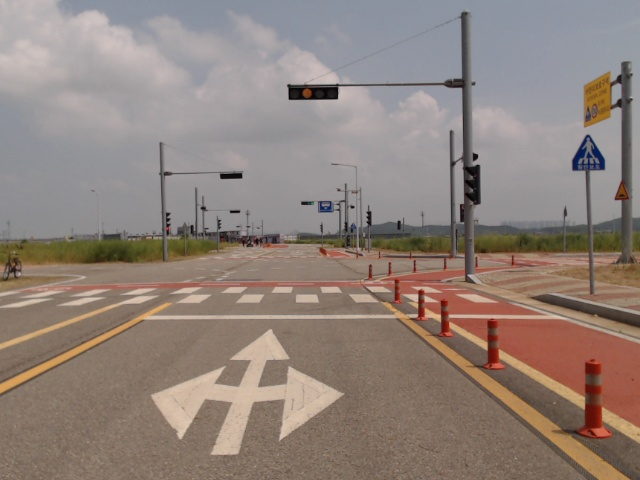orange_4: (288, 86, 340, 99)
